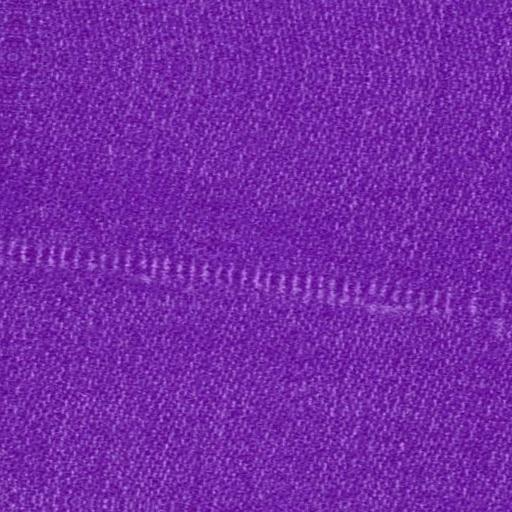slub: (0, 224, 470, 334)
